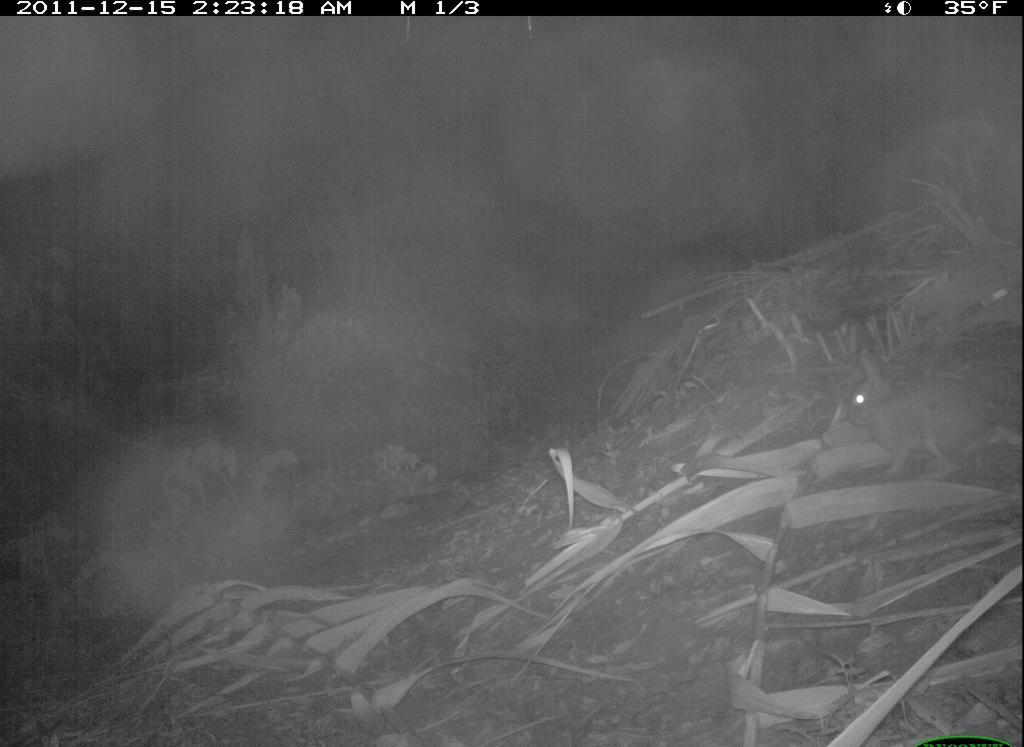rabbit: (836, 342, 1004, 489)
